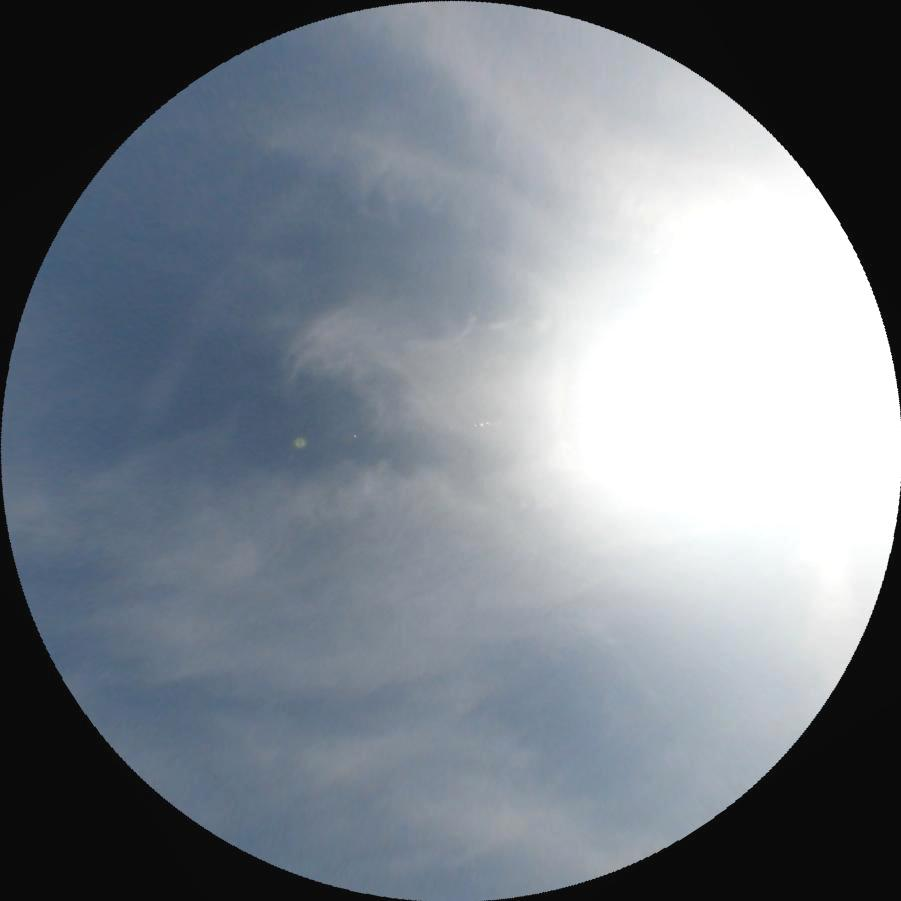contrail veryold: (131, 248, 251, 417), (779, 489, 851, 673)
sun: (609, 242, 898, 520)
